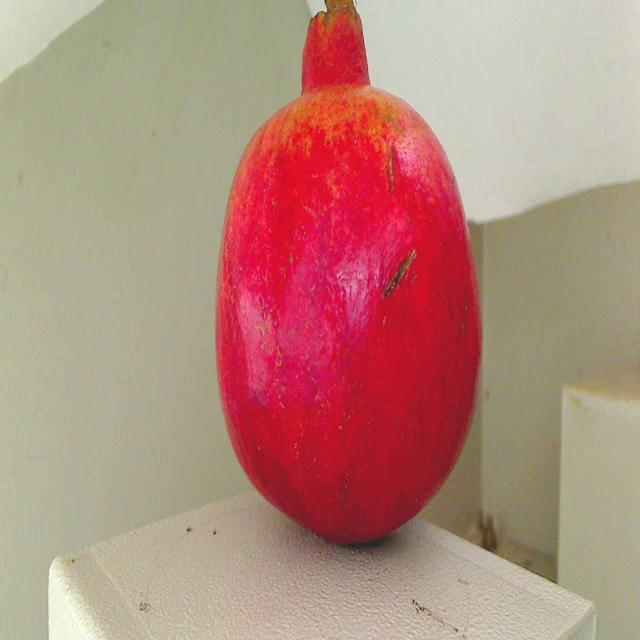pomegranate: (206, 0, 490, 561)
